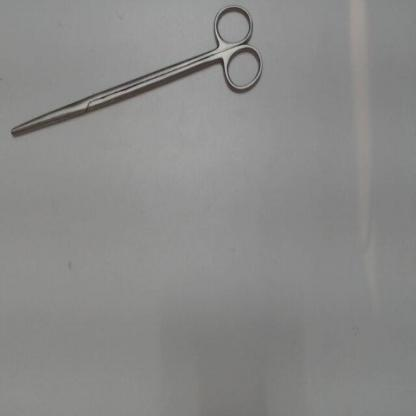9 Metzenbaum Scissors: (8, 1, 270, 142)
